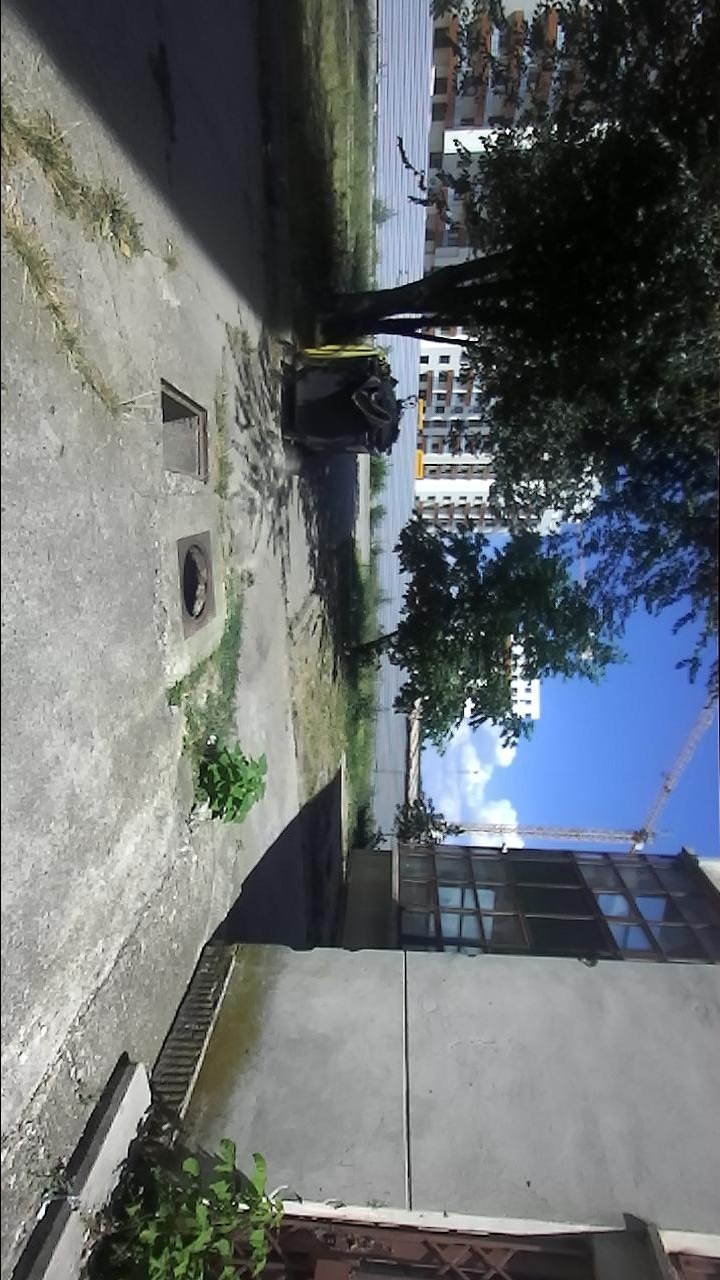drain: (158, 375, 214, 484), (180, 539, 213, 628)
